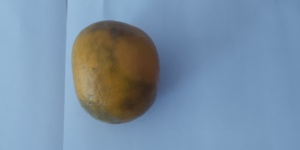BAD: (70, 19, 161, 124)
